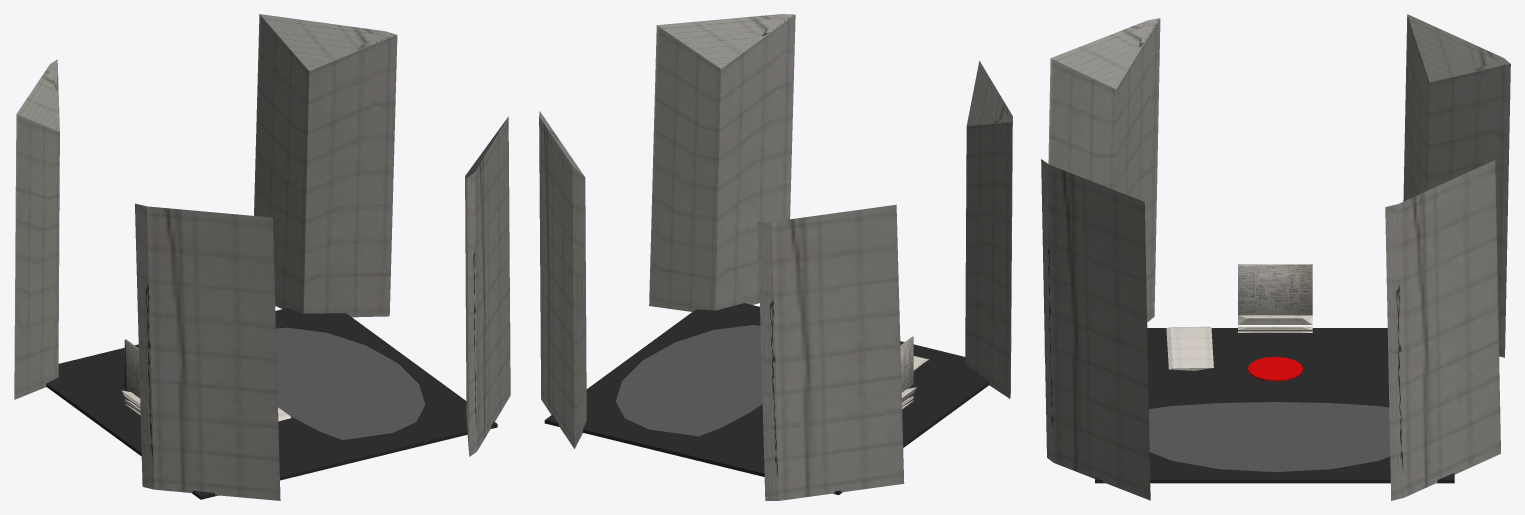
Rendered from vrcat-demo-scene 1.fbx.
3 renders of one model, left to right at view 1: azimuth 30°, elevation 25°; view 2: azimuth 150°, elevation 25°; view 3: azimuth 270°, elevation 25°, orthographic. The views are drawn at different scales.
Visible parts, largest first — view 1: Cube.003, Cube.001, Circle.001, Cube; view 2: Cube.003, Cube.001, Circle.001, Cube; view 3: Cube.003, Cube.001, Circle.001, Cube, Cube.002, Circle.
Part boxes in pixels (bbox=[...]): Cube.003: bbox=[14, 14, 510, 500]; Cube.001: bbox=[46, 308, 497, 499]; Circle.001: bbox=[276, 327, 425, 440]; Cube: bbox=[121, 339, 140, 415]; Cube.003: bbox=[539, 14, 1012, 500]; Cube.001: bbox=[544, 303, 989, 494]; Circle.001: bbox=[615, 325, 762, 436]; Cube: bbox=[900, 336, 916, 408]; Cube.003: bbox=[1041, 14, 1510, 500]; Cube.001: bbox=[1095, 328, 1454, 483]; Circle.001: bbox=[1149, 402, 1390, 472]; Cube: bbox=[1238, 264, 1312, 332]; Cube.002: bbox=[1166, 326, 1213, 370]; Circle: bbox=[1247, 356, 1302, 381].
Size of the model in its own units: 1655 by 1203 by 1703.
